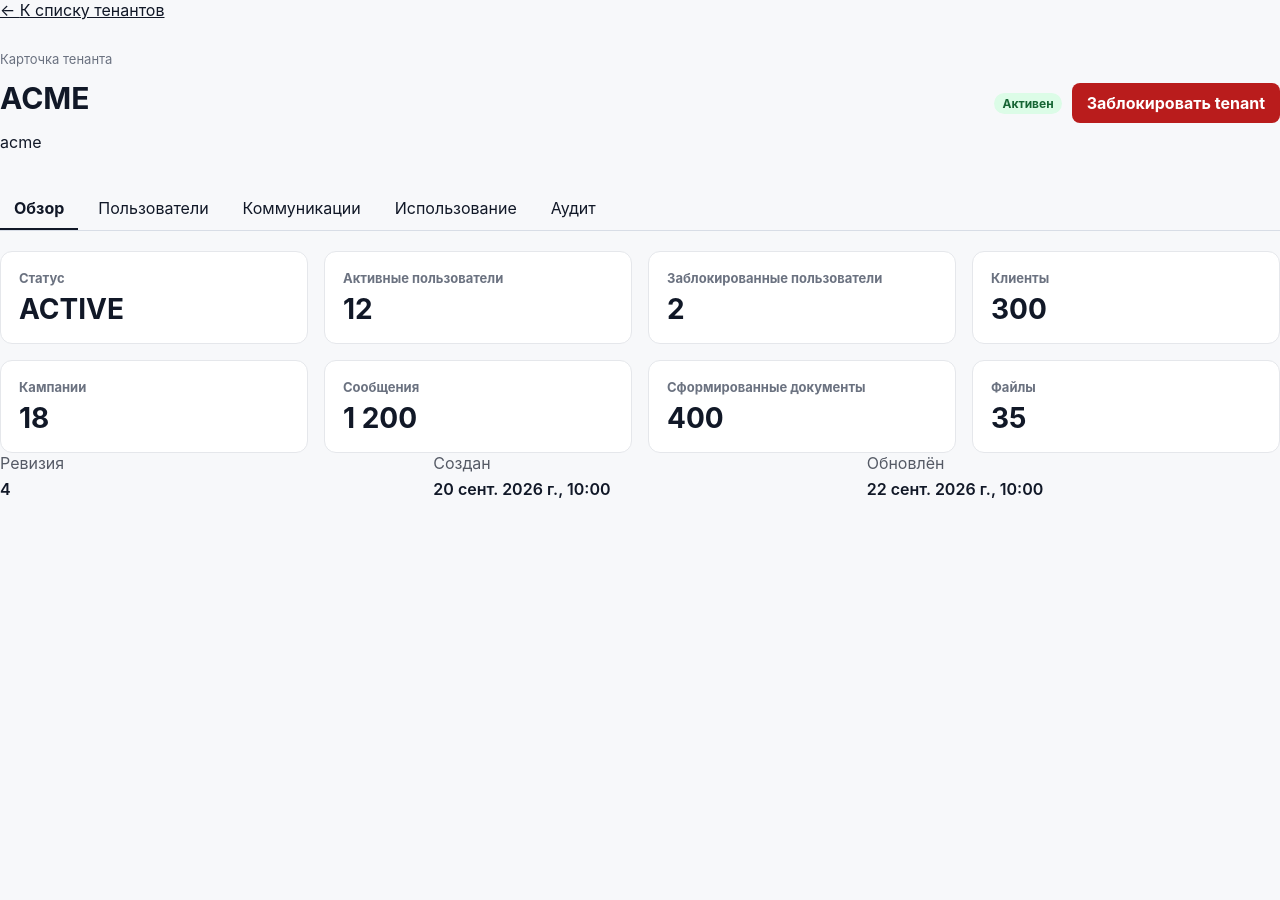
Scenario: PlatformTenantDetailPage › requires a reason before lifecycle mutation
Click the button "Заблокировать tenant" at (1176, 103), box [1072,83,1279,123]
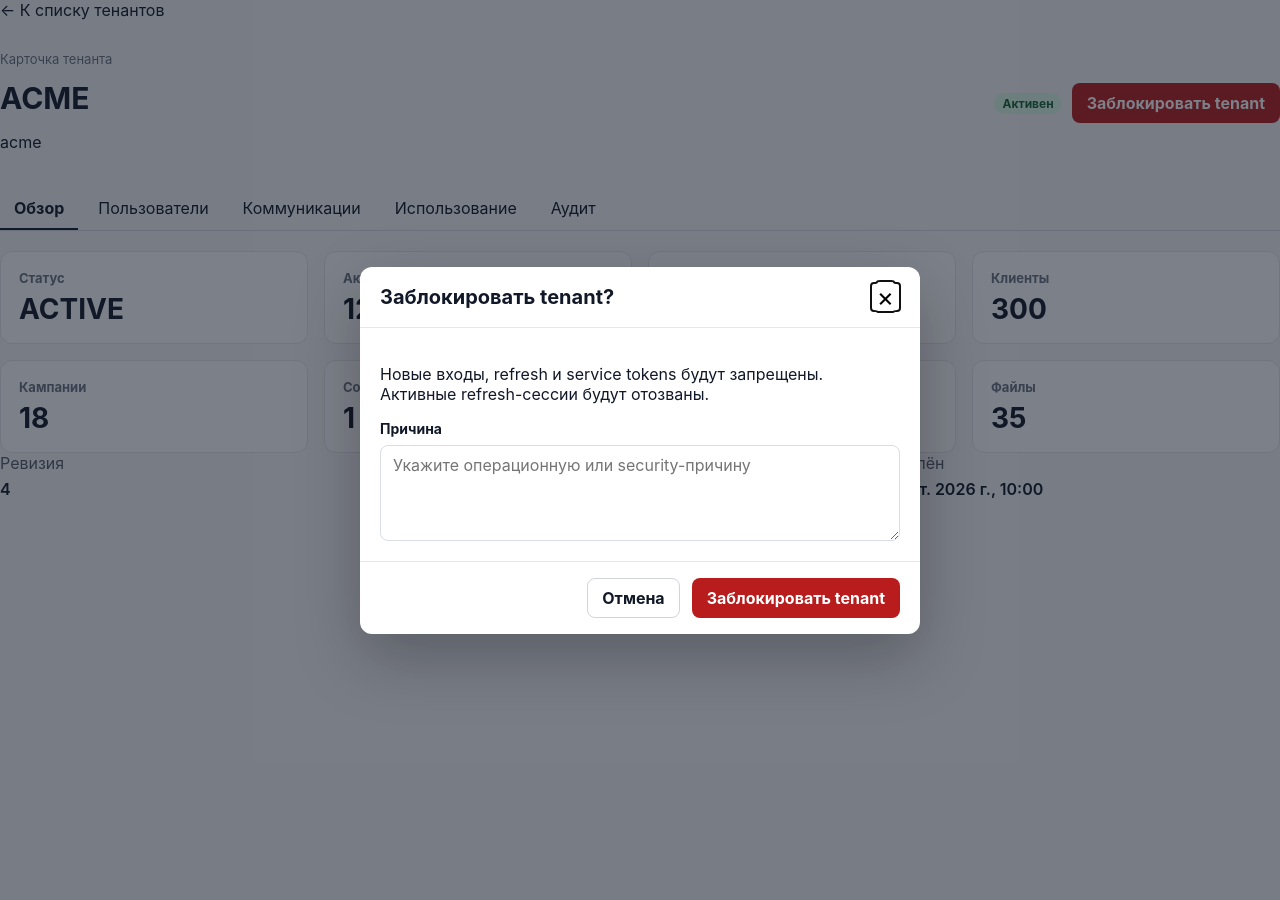
Click the button "Заблокировать tenant" at (796, 598), box [692,578,900,618]
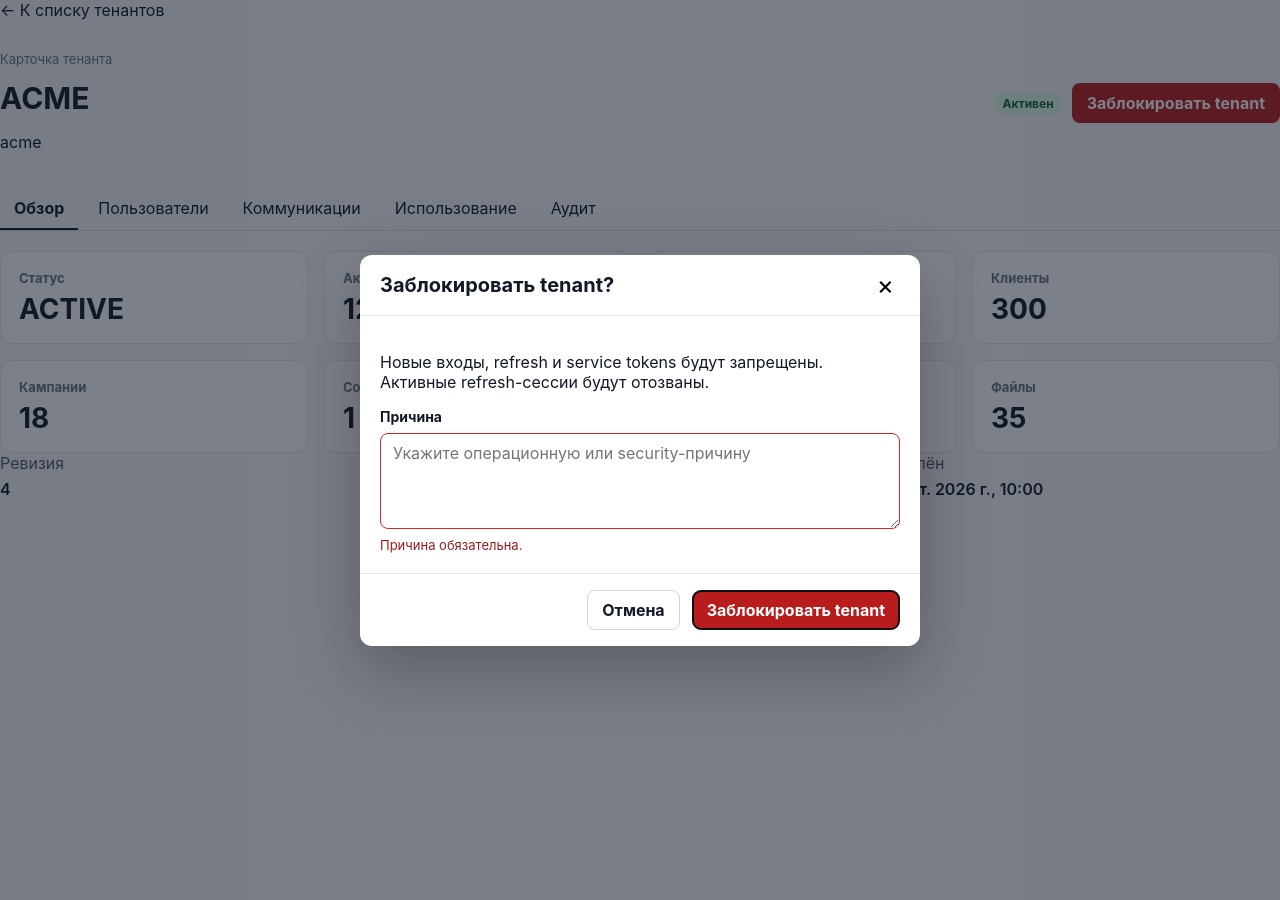
Result: the text "Причина обязательна." is shown at [380,536,522,552]
